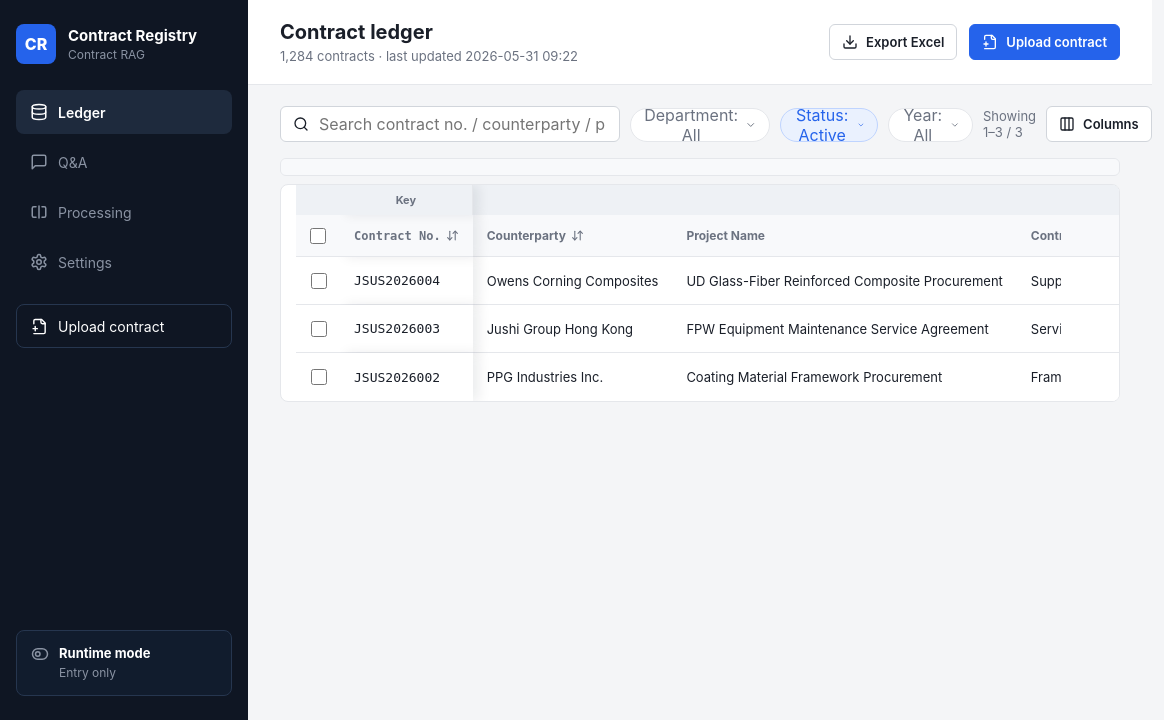
Scenario: Contract-RAG frontend › disables ledger export when the current result set is empty
(page scrolled)
Expected: the text "Owens Corning Composites" is shown, [473, 257, 672, 305]
Expected: the button "Export Excel" is enabled, [829, 24, 957, 60]
Type "no such contract" into the field with placeholder "Search contract no. / counterparty / project" at (462, 124), box [317, 112, 607, 134]
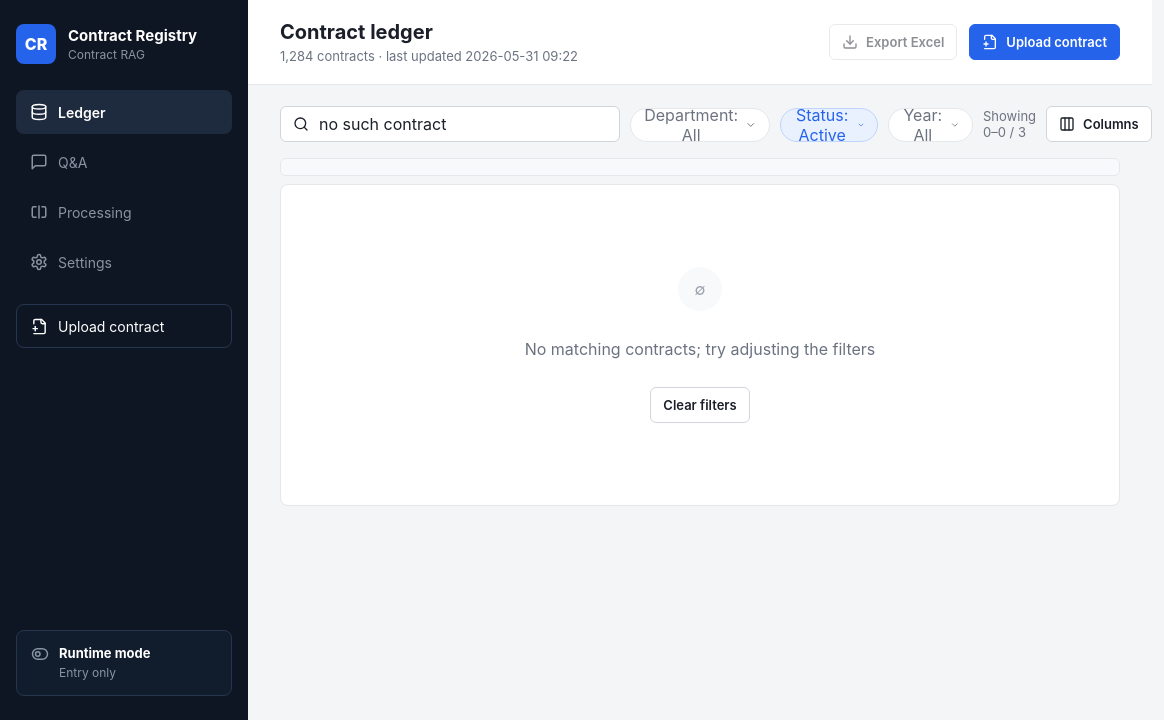
Now the button "Export Excel" is disabled, box [829, 24, 957, 60]
